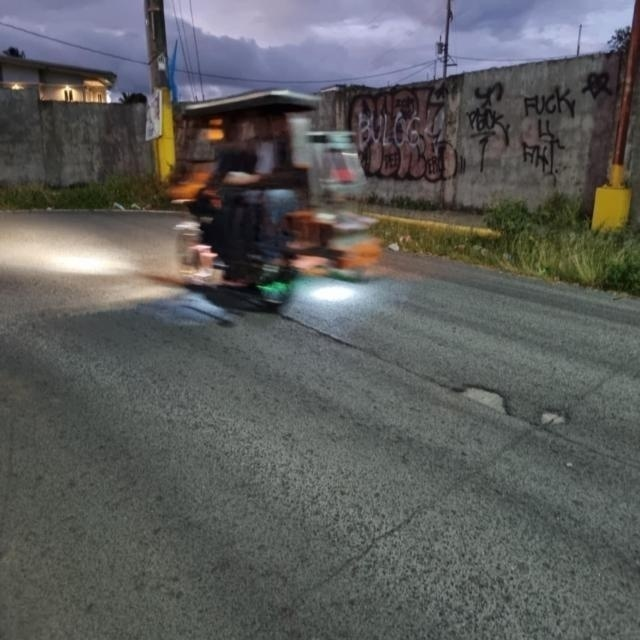pothole: (430, 348, 532, 446), (510, 385, 580, 452)
